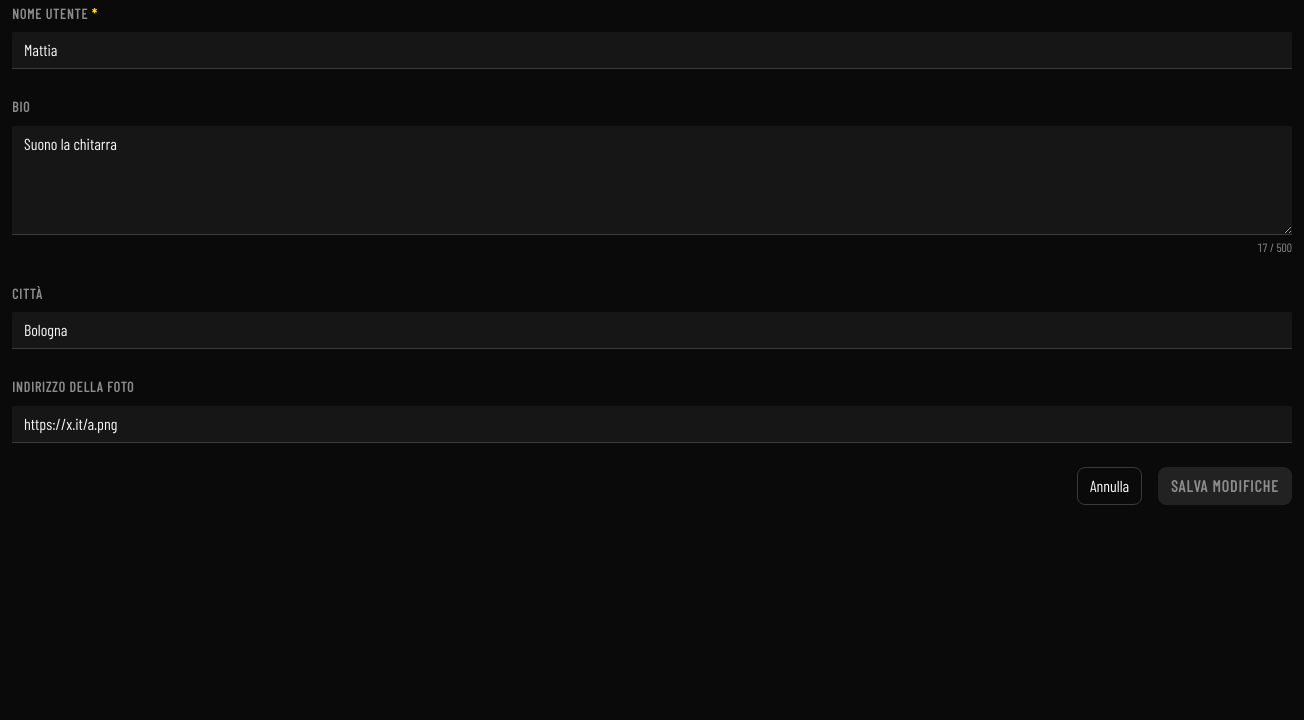
it: ProfileForm › il nome vuoto non parte: messaggio sotto il campo e nessuna chiamata
Clear the field labelled "Nome utente" at (652, 51), box [12,32,1292,69]
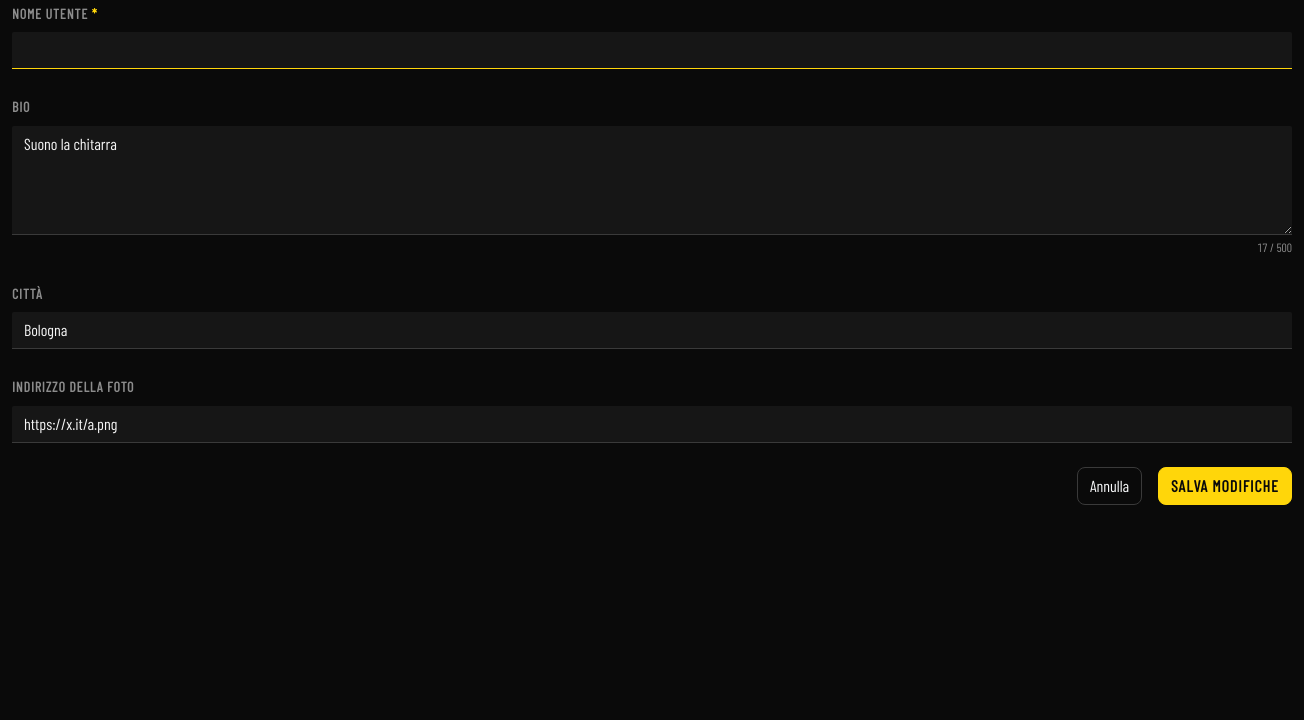
Click the button "Salva modifiche" at (1225, 486), box [1158,467,1292,505]
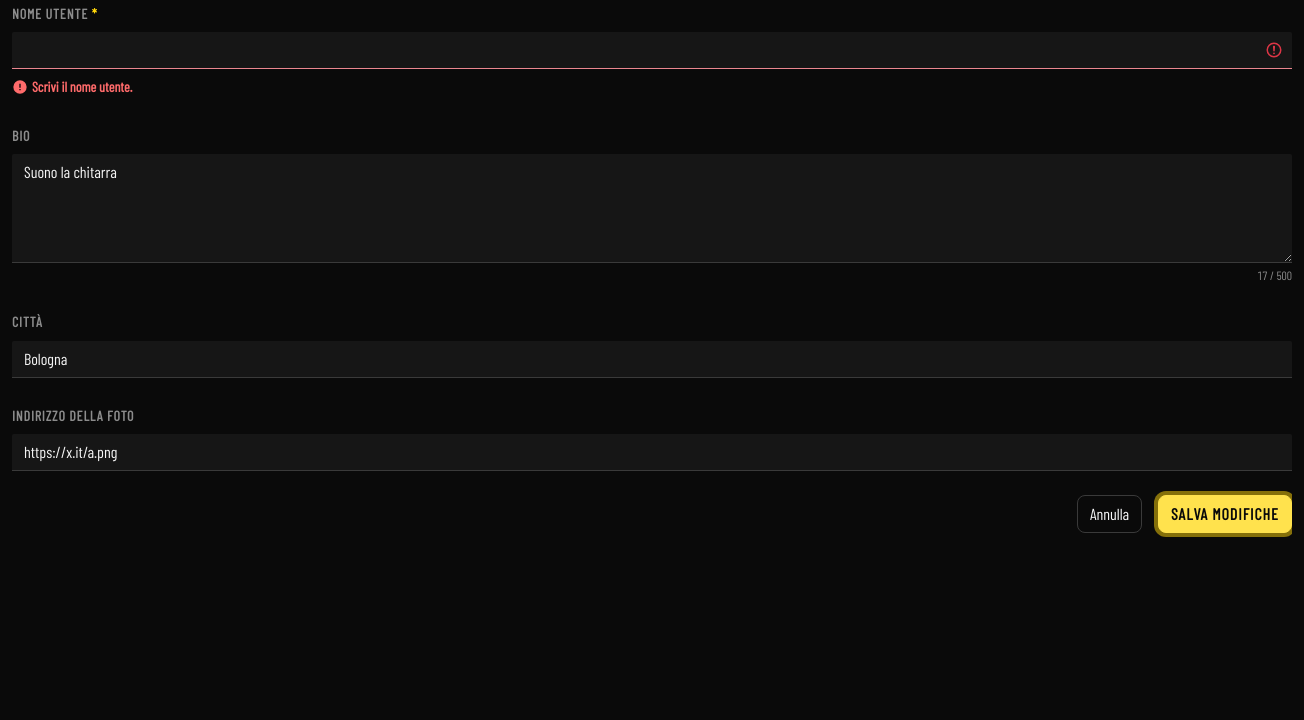
Result: the text "Scrivi il nome utente." is shown at [32,77,132,98]
